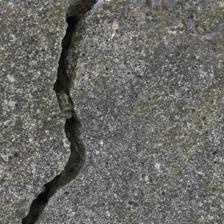Crack: (23, 4, 107, 219)
